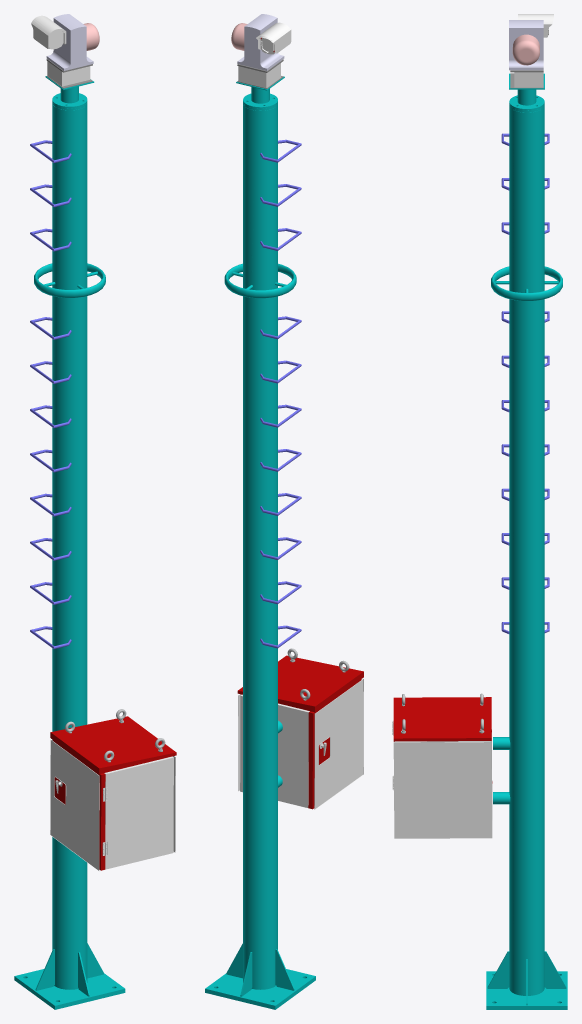
The model's file is HyojunCCTV.glb.
3 views of the same model, side by side, from view 1: azimuth 30°, elevation 25°; view 2: azimuth 150°, elevation 25°; view 3: azimuth 270°, elevation 25° (orthographic).
Parts seen in each view (by area): view 1: group_7.008, group_6, group_26.001, group_24, group_7.022, group_29, group_47.001, group_41, group_33; view 2: group_7.008, group_26.001, group_6, group_24, group_7.022, group_29, group_47.001, group_33, group_41; view 3: group_7.008, group_9, group_24, group_7.022, group_29, group_35, group_33.
Boxes of the visible parts, x1=… form: group_7.008: x1=34, y1=104, x2=105, y2=996; group_6: x1=104, y1=756, x2=173, y2=869; group_26.001: x1=50, y1=739, x2=99, y2=870; group_24: x1=50, y1=716, x2=176, y2=774; group_7.022: x1=14, y1=969, x2=125, y2=1009; group_29: x1=46, y1=14, x2=93, y2=70; group_47.001: x1=52, y1=740, x2=105, y2=870; group_41: x1=31, y1=15, x2=66, y2=48; group_33: x1=47, y1=61, x2=90, y2=86; group_7.008: x1=224, y1=104, x2=296, y2=996; group_26.001: x1=314, y1=678, x2=363, y2=809; group_6: x1=240, y1=694, x2=309, y2=807; group_24: x1=237, y1=655, x2=363, y2=712; group_7.022: x1=205, y1=969, x2=315, y2=1009; group_29: x1=237, y1=14, x2=284, y2=70; group_47.001: x1=308, y1=679, x2=361, y2=809; group_33: x1=238, y1=63, x2=280, y2=88; group_41: x1=256, y1=22, x2=291, y2=53; group_7.008: x1=487, y1=106, x2=566, y2=1005; group_9: x1=393, y1=742, x2=492, y2=838; group_24: x1=393, y1=697, x2=491, y2=741; group_7.022: x1=486, y1=971, x2=567, y2=1009; group_29: x1=509, y1=20, x2=543, y2=70; group_35: x1=512, y1=34, x2=539, y2=65; group_33: x1=514, y1=72, x2=543, y2=87.
Size of the model in its own units: 0.569 by 6.56 by 1.08.
